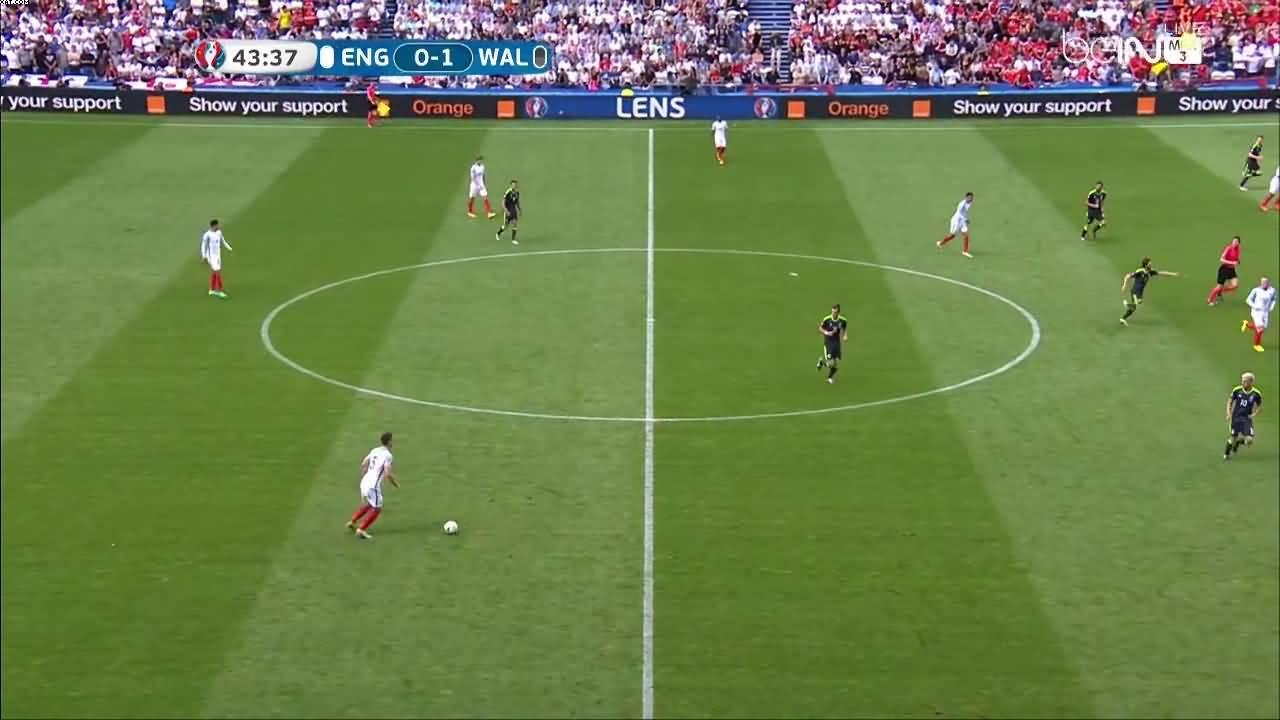ball: (444, 520, 458, 535)
player: (345, 432, 400, 540), (1120, 259, 1181, 328), (1224, 371, 1264, 462), (1241, 277, 1280, 353), (815, 303, 848, 386), (935, 190, 974, 259), (199, 218, 231, 299), (467, 157, 497, 220), (495, 179, 522, 246), (1080, 182, 1109, 242), (1239, 136, 1264, 194), (712, 114, 728, 165)
referee: (1208, 236, 1241, 305), (1259, 157, 1279, 212), (367, 81, 389, 128)
